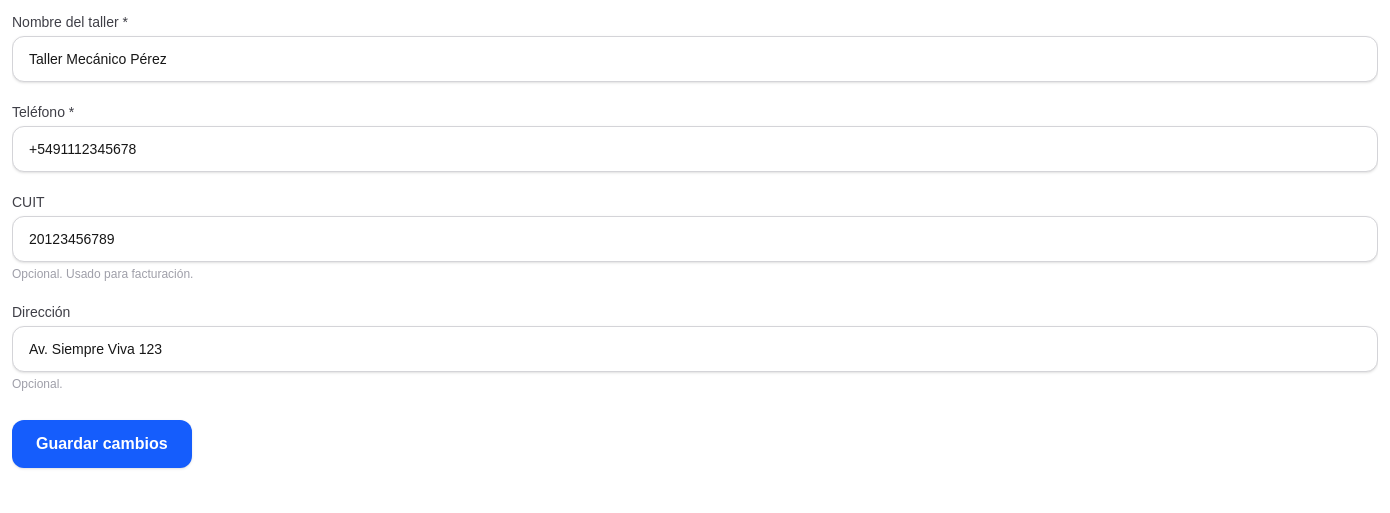
Test: WorkshopForm › validation › shows error when name is empty
Clear the field labelled "Nombre del taller *" at (695,59), box [12,36,1378,82]
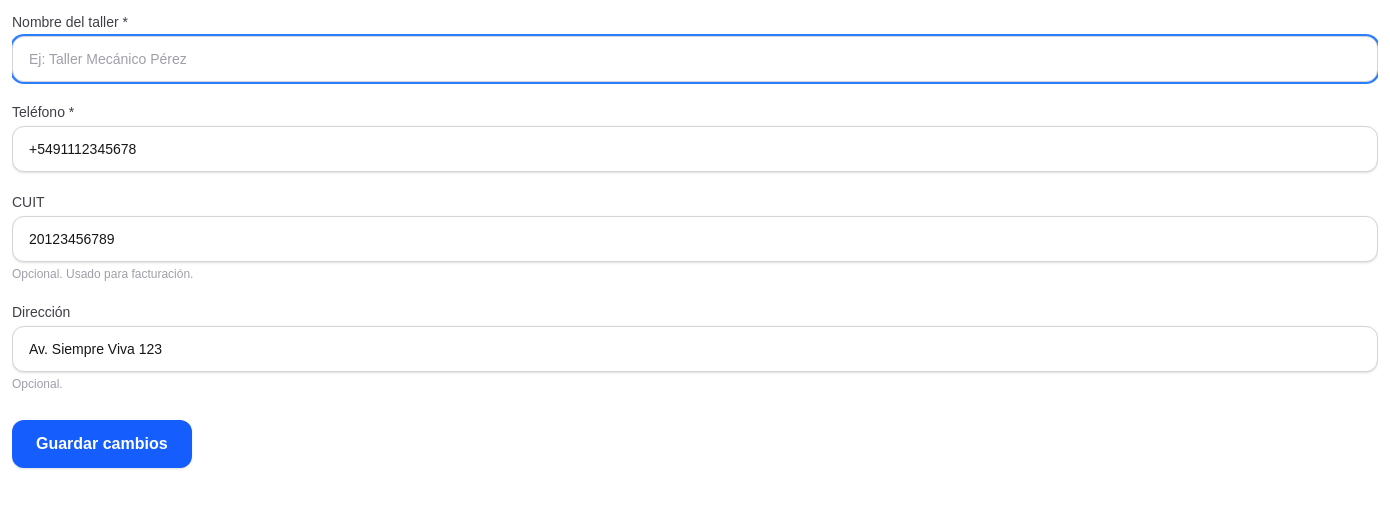
Click the button "Guardar cambios" at (102,444), box [12,420,192,468]
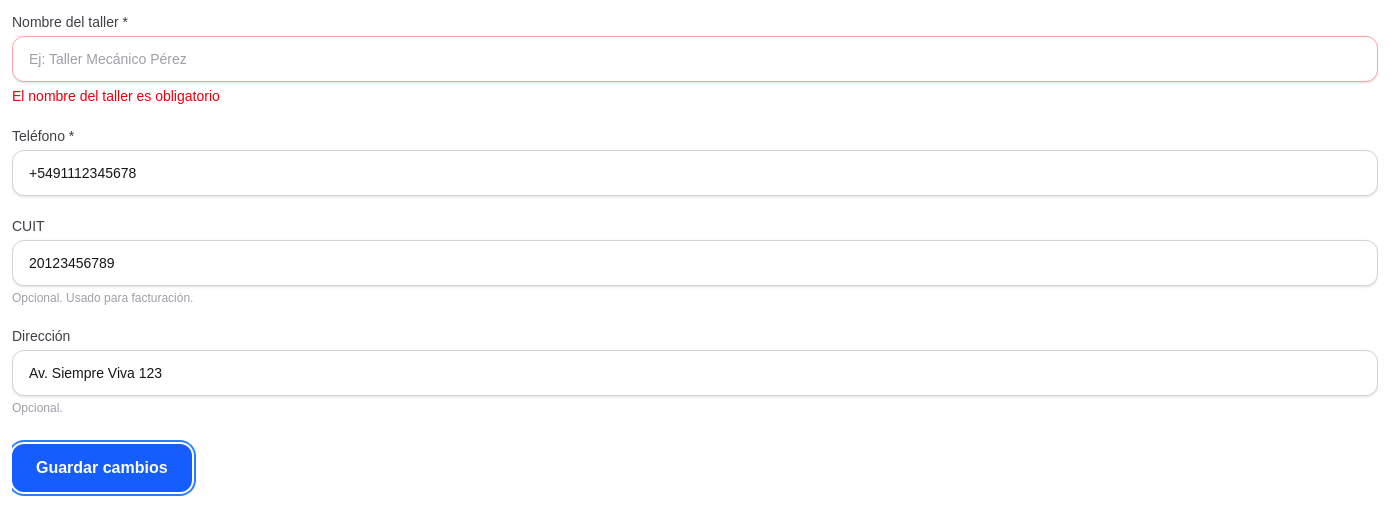
Expected: the text "El nombre del taller es obligatorio" is shown, [12,88,220,104]
